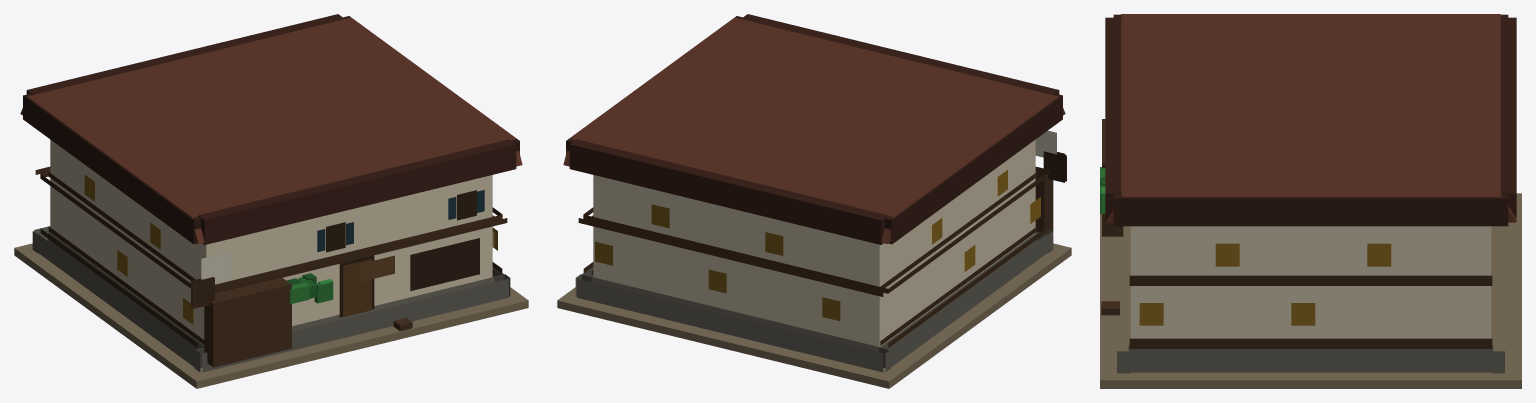
File: RatMimicSil.fbx
3 renders of one model, left to right at view 1: azimuth 30°, elevation 25°; view 2: azimuth 150°, elevation 25°; view 3: azimuth 270°, elevation 25°, orthographic. The views are drawn at different scales.
Parts seen in each view (by area): view 1: PI_S_All; view 2: PI_S_All; view 3: PI_S_All.
Boxes of the visible parts, x1=… form: PI_S_All: x1=14, y1=14, x2=528, y2=388; PI_S_All: x1=557, y1=14, x2=1071, y2=388; PI_S_All: x1=1100, y1=14, x2=1521, y2=388.
Size of the model in its own units: 42.04 by 19.9 by 40.04.
